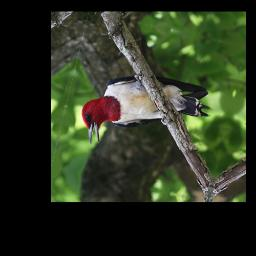Woodpecker: (74, 58, 219, 172)
